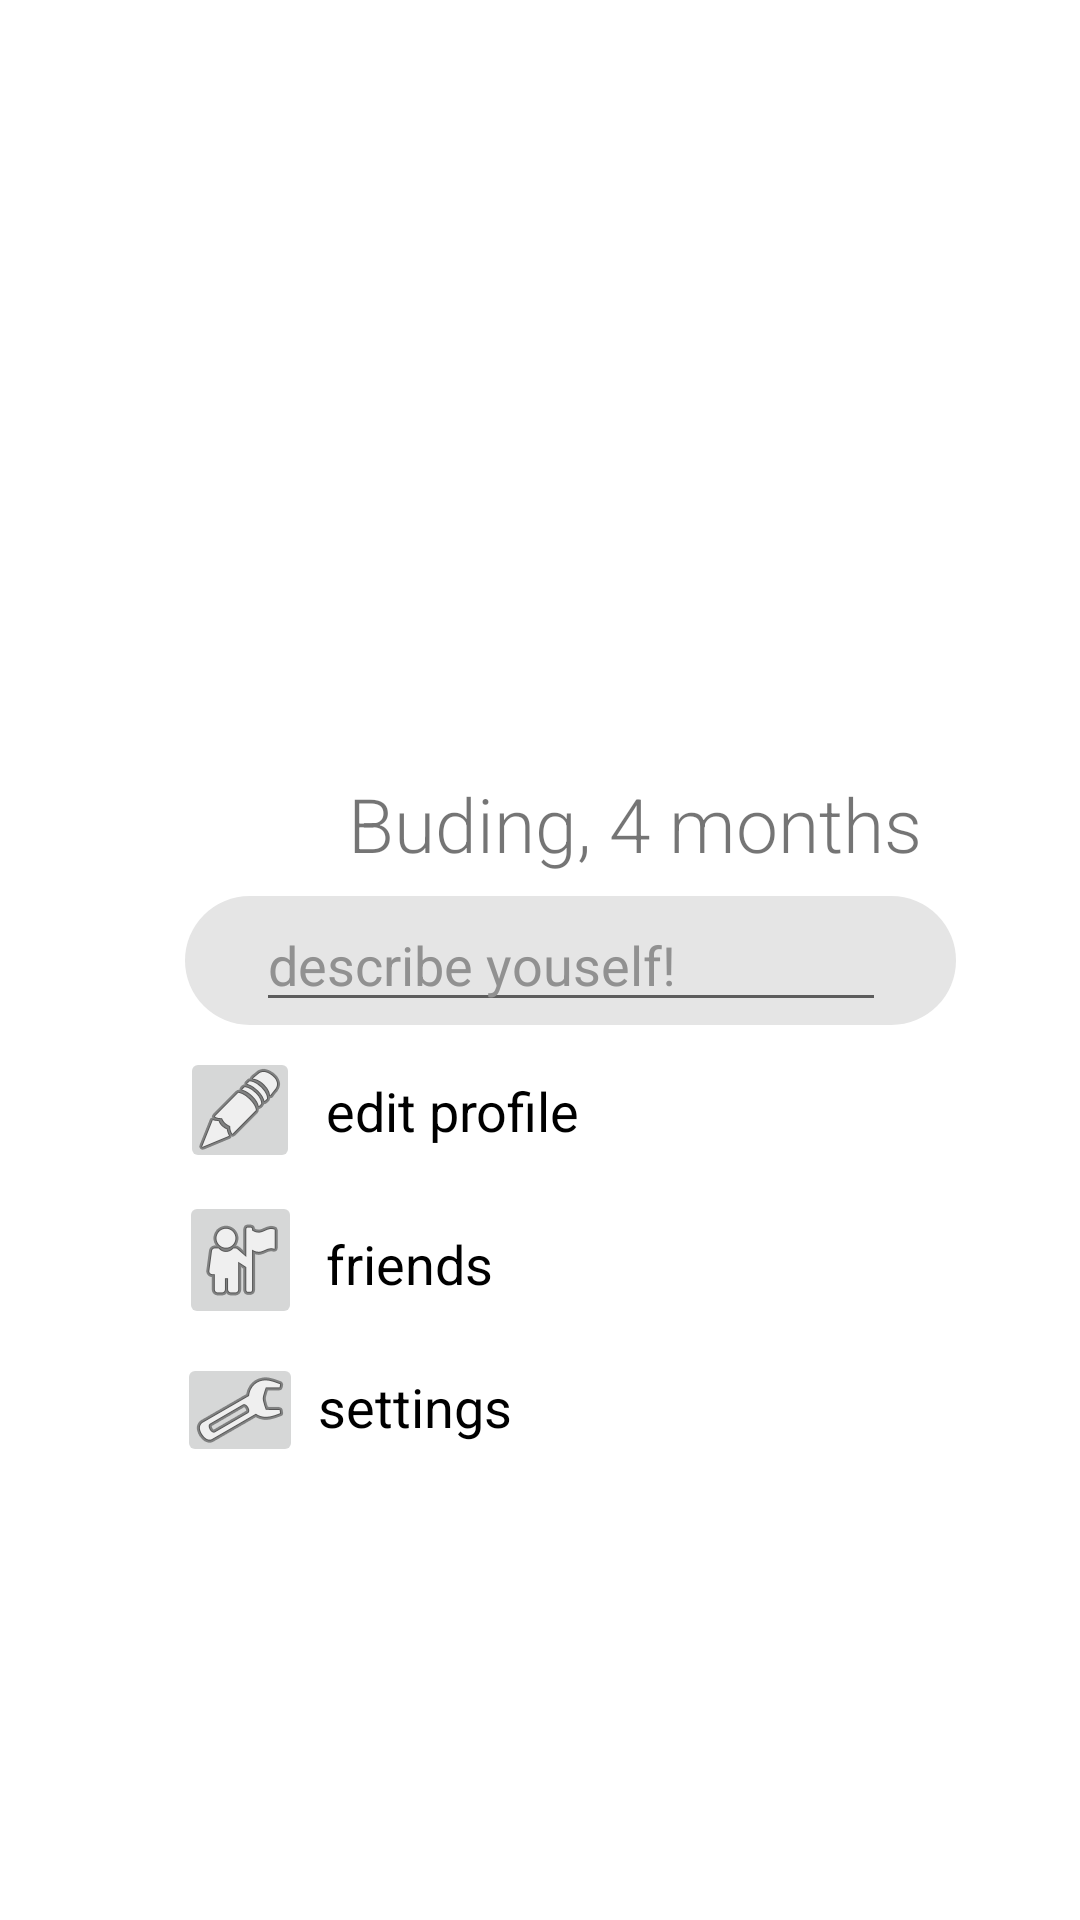

Icon click points for this 1080px x 1920px phone screenshot, format (x,y):
manage: (240,1410)
myplaces: (240,1260)
